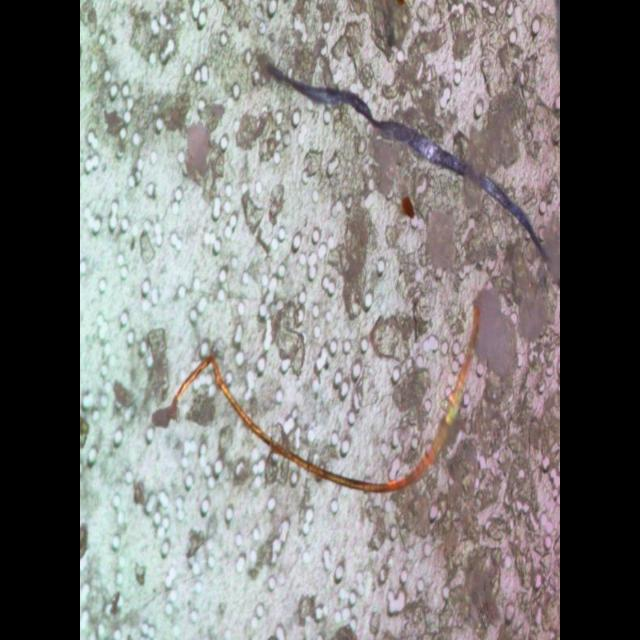Fibre: (256, 51, 558, 289), (150, 300, 483, 494)
